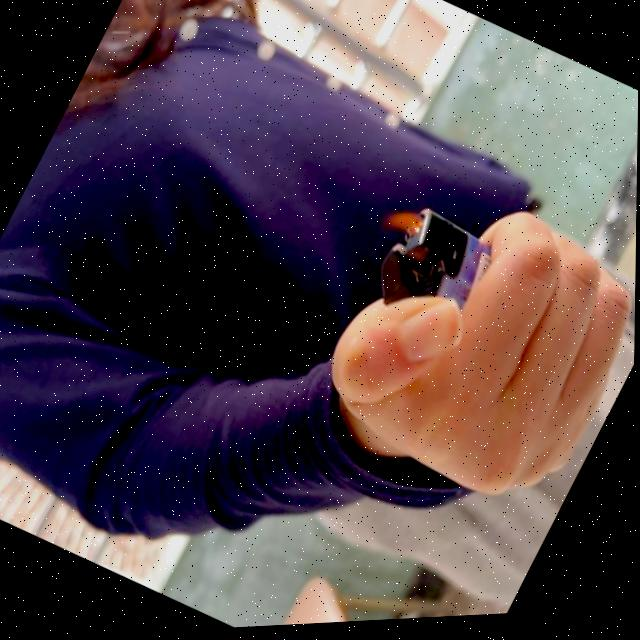Fire: (376, 201, 430, 253)
